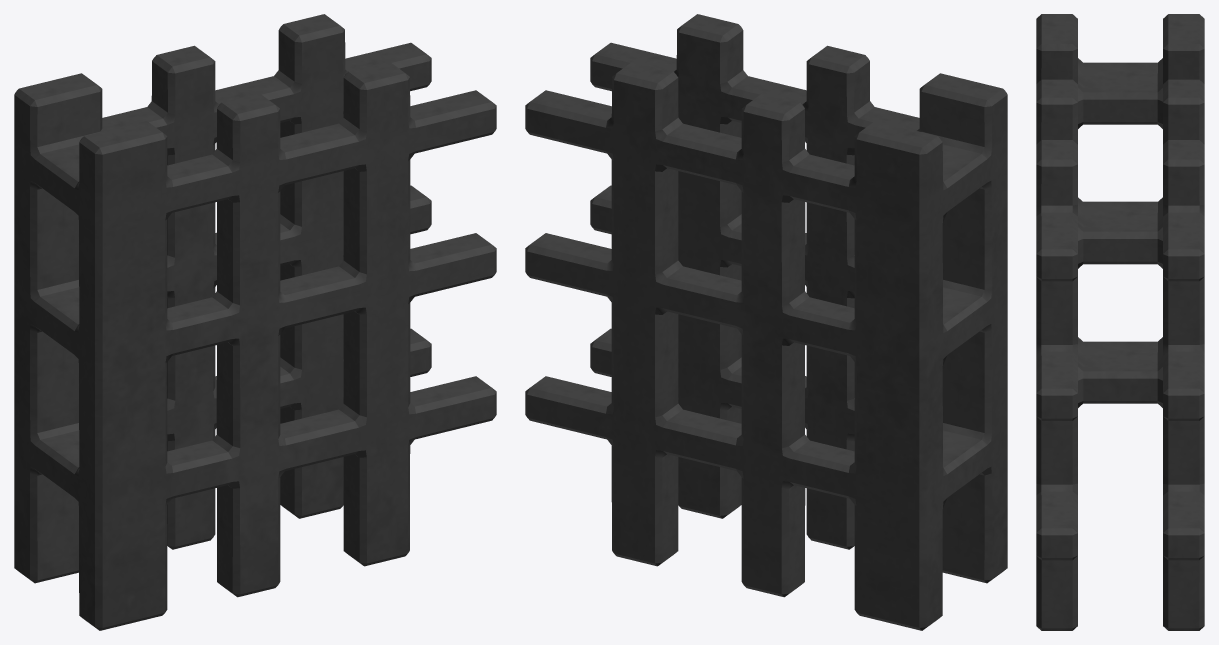
File: Buildingbase.fbx
3 views of the same model, side by side, from view 1: azimuth 30°, elevation 25°; view 2: azimuth 150°, elevation 25°; view 3: azimuth 270°, elevation 25° (orthographic). The views are drawn at different scales.
Parts seen in each view (by area): view 1: buildingslilts2; view 2: buildingslilts2; view 3: buildingslilts2.
Part boxes in pixels (x1,y1,x2,y2): buildingslilts2: (14,14,496,630); buildingslilts2: (525,14,1007,630); buildingslilts2: (1036,14,1204,630).
Bounding box in the file's own units: 10.6 × 12.18 × 3.94.
